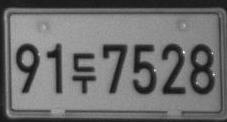1: (45, 42, 70, 94)
2: (161, 42, 187, 95)
5: (132, 43, 157, 95)
7: (101, 43, 127, 94)
8: (189, 42, 215, 95)
9: (15, 42, 41, 93)
두: (71, 52, 97, 93)
